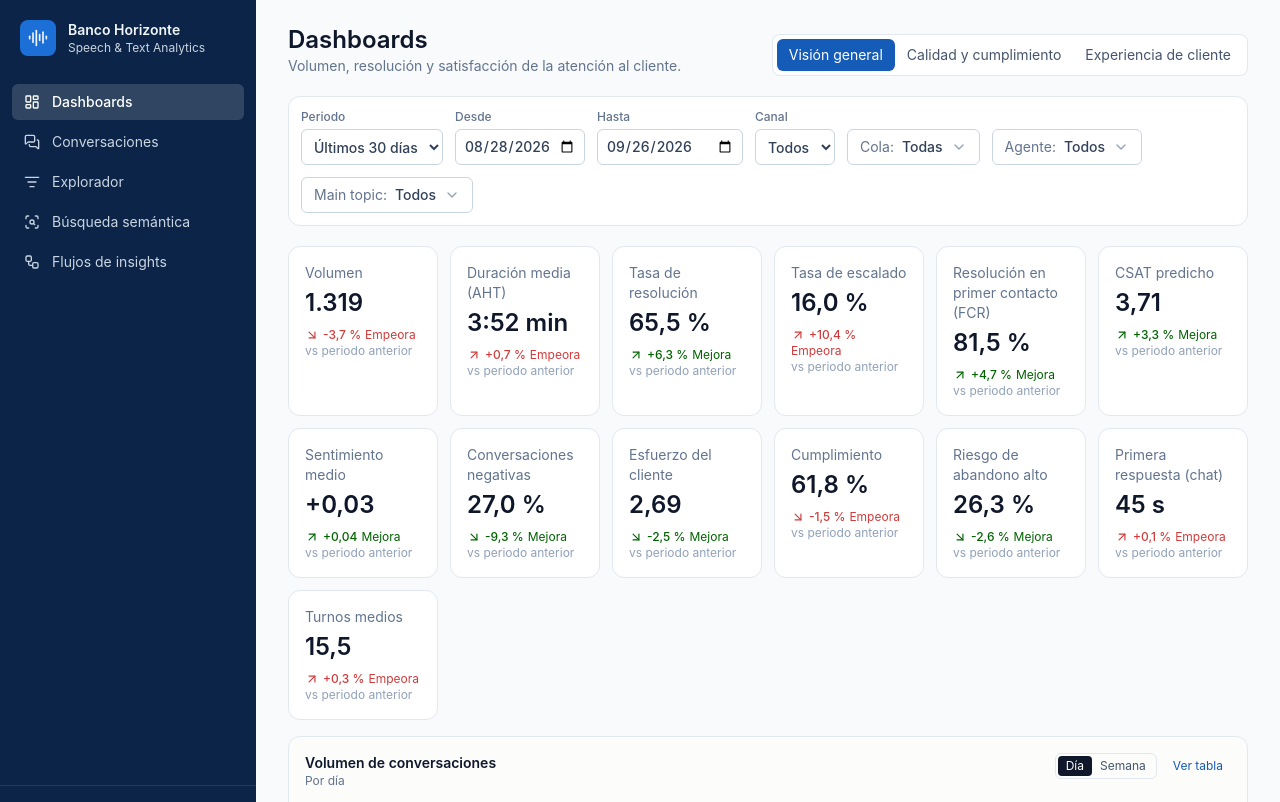
Test: dashboards › el dashboard Experiencia de cliente muestra sus widgets
Expected: the heading "Dashboards" is shown, [288,25,428,54]
Click the link "Experiencia de cliente": (1158, 54) [1085,46,1231,63]
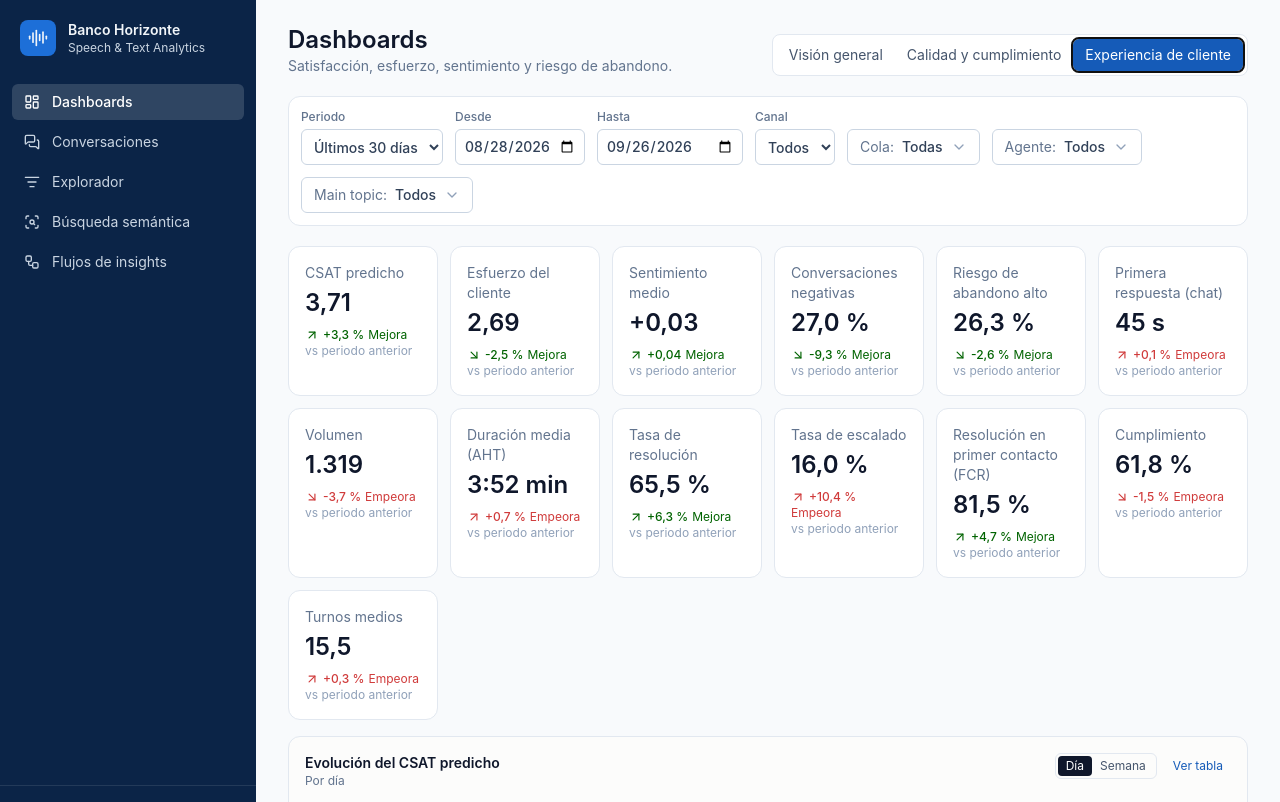
Expected: the element "CSAT predicho" is shown, [288,246,438,396]
Result: the heading "Evolución del CSAT predicho" is shown at [305,753,500,773]
